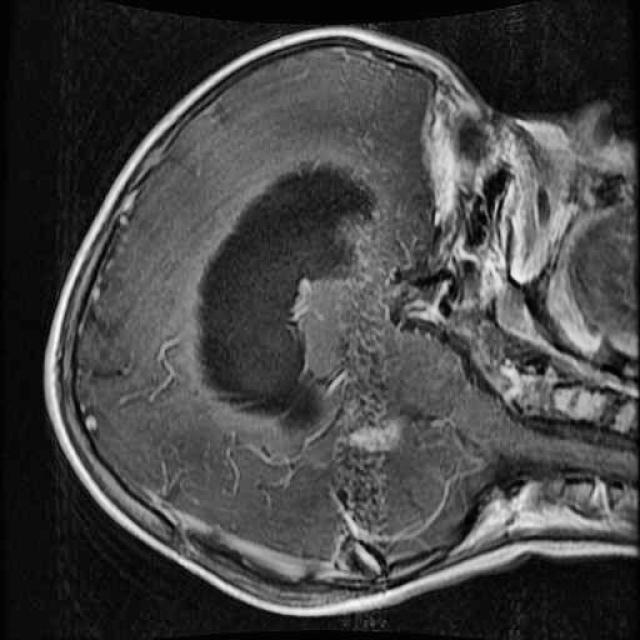Non-Tumor: (172, 135, 392, 459)
